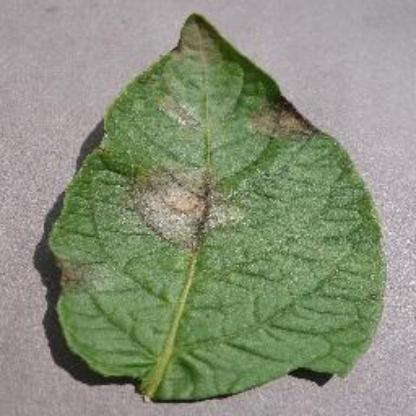Late-Blight: (44, 13, 390, 406)
